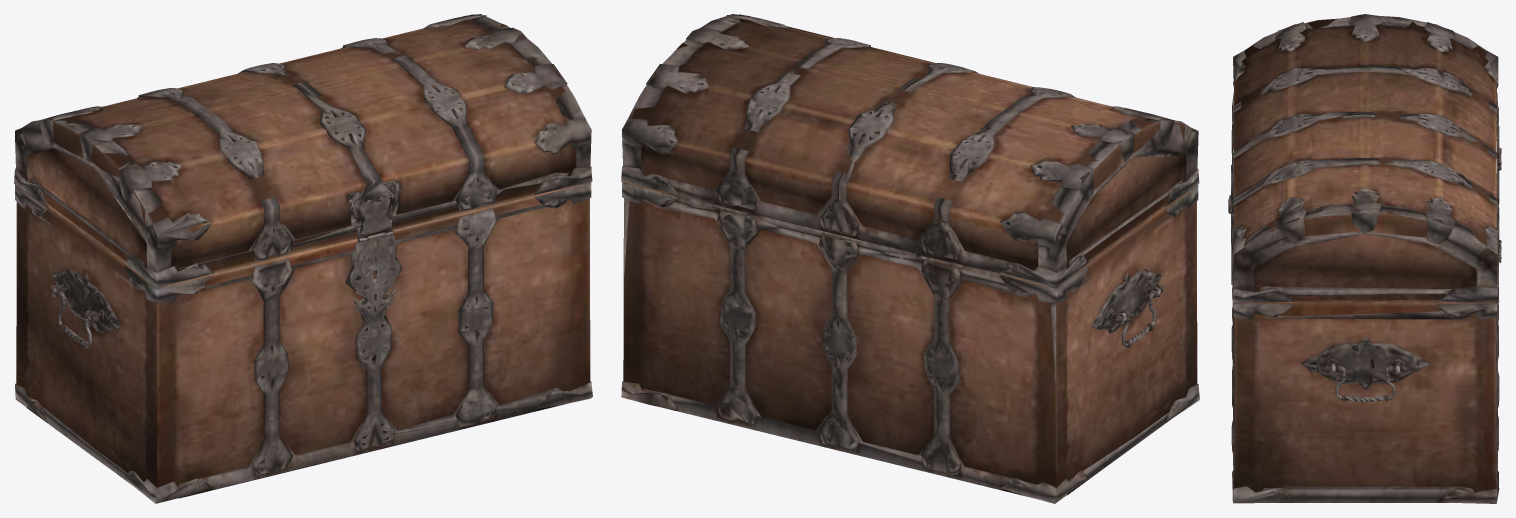
The model's file is treasure_chest.glb.
The picture shows the model from 3 angles, left to right: view 1: azimuth 30°, elevation 25°; view 2: azimuth 150°, elevation 25°; view 3: azimuth 270°, elevation 25°; orthographic projection. The views are drawn at different scales.
Parts seen in each view (by area): view 1: treasure_chest_bottom, treasure_chest_lid, treasure_chest_lock, treasure_chest_handle_left; view 2: treasure_chest_bottom, treasure_chest_lid, treasure_chest_handle_left; view 3: treasure_chest_lid, treasure_chest_bottom, treasure_chest_handle_right.
Part boxes in pixels (box(x1,y1,x2,y2)): treasure_chest_bottom: box(15, 182, 592, 503); treasure_chest_lid: box(14, 14, 592, 287); treasure_chest_lock: box(349, 232, 399, 322); treasure_chest_handle_left: box(50, 285, 99, 348); treasure_chest_bottom: box(621, 182, 1199, 503); treasure_chest_lid: box(621, 14, 1199, 287); treasure_chest_handle_left: box(1114, 284, 1163, 347); treasure_chest_lid: box(1228, 14, 1501, 303); treasure_chest_bottom: box(1231, 138, 1501, 503); treasure_chest_handle_right: box(1322, 365, 1408, 402).
Bounding box in the file's own units: 0.959 × 0.6165 × 0.5222.
1 material, 1 textured.
